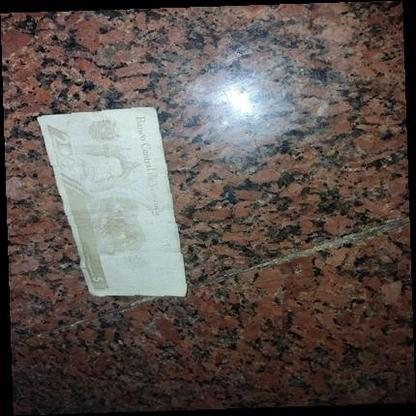five-back-vef: (36, 107, 188, 297)
